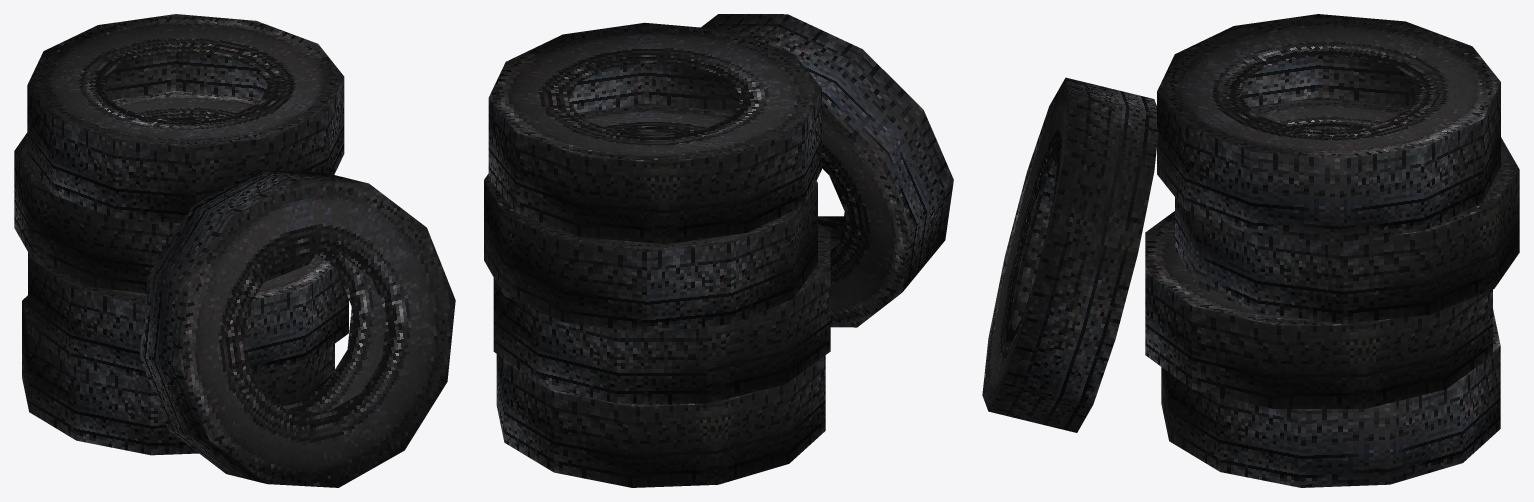
Rendered from tires.glb.
3 views of the same model, side by side, from view 1: azimuth 30°, elevation 25°; view 2: azimuth 150°, elevation 25°; view 3: azimuth 270°, elevation 25° (orthographic). The views are drawn at different scales.
Visible parts, largest first — view 1: Tires; view 2: Tires; view 3: Tires.
Part boxes in pixels (x1=…): Tires: x1=14, y1=14, x2=455, y2=487; Tires: x1=484, y1=14, x2=953, y2=487; Tires: x1=982, y1=14, x2=1519, y2=487.
Bounding box in the file's own units: 0.7687 × 0.8022 × 1.17.
1 material, 1 textured.
